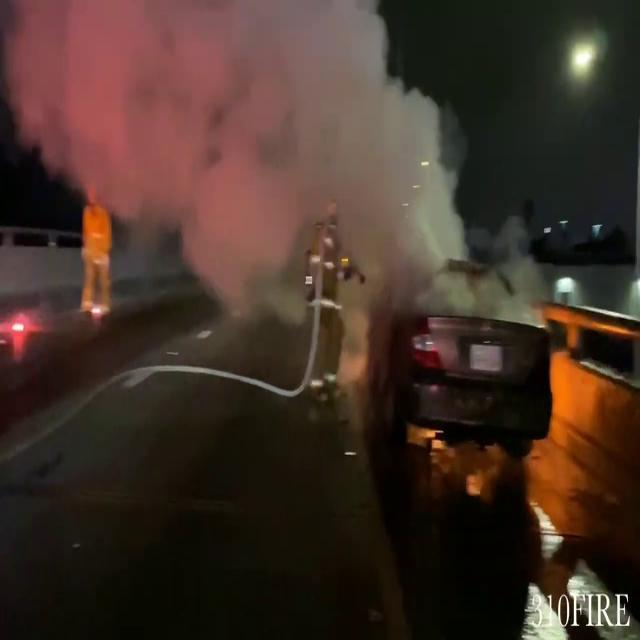Smoke: (0, 0, 469, 340)
